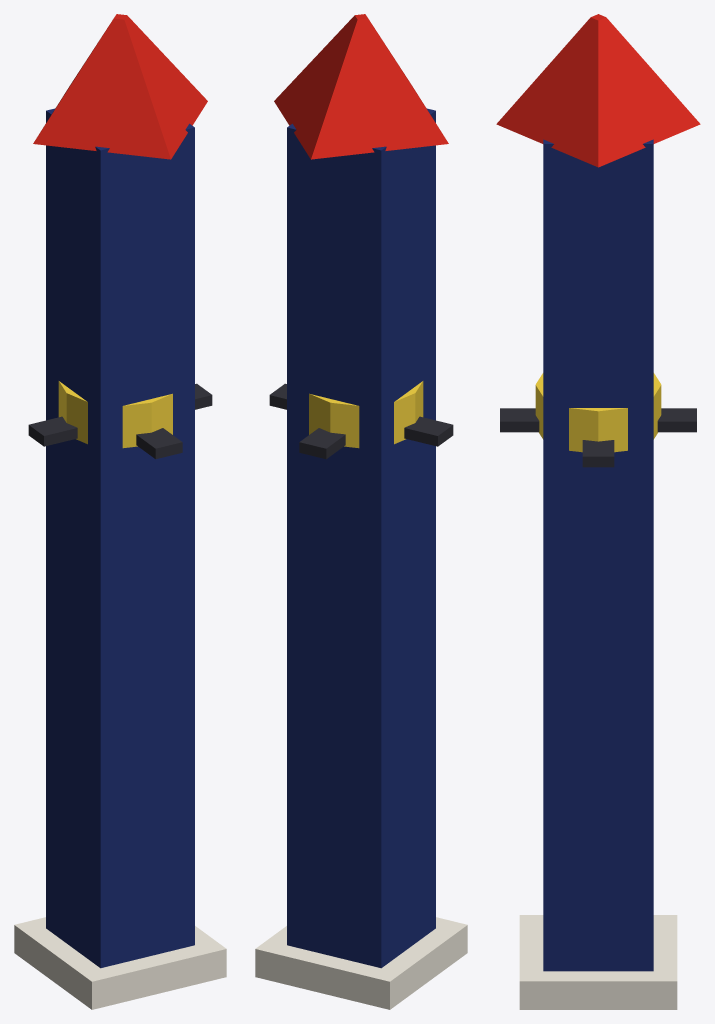
The model's file is drop_tower.glb.
The picture shows the model from 3 angles, left to right: view 1: azimuth 30°, elevation 25°; view 2: azimuth 150°, elevation 25°; view 3: azimuth 270°, elevation 25°; orthographic projection.
Parts seen in each view (by area): view 1: drop_tower; view 2: drop_tower; view 3: drop_tower.
Part boxes in pixels (bbox=[...]): drop_tower: bbox=[14, 14, 226, 1009]; drop_tower: bbox=[255, 14, 467, 1009]; drop_tower: bbox=[496, 14, 700, 1009].
Bounding box in the file's own units: 2.6 × 13.45 × 2.6.
